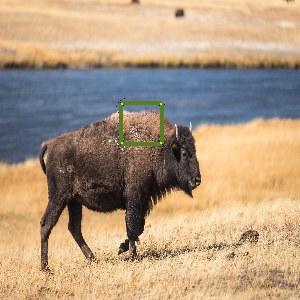square: (117, 100, 164, 146)
